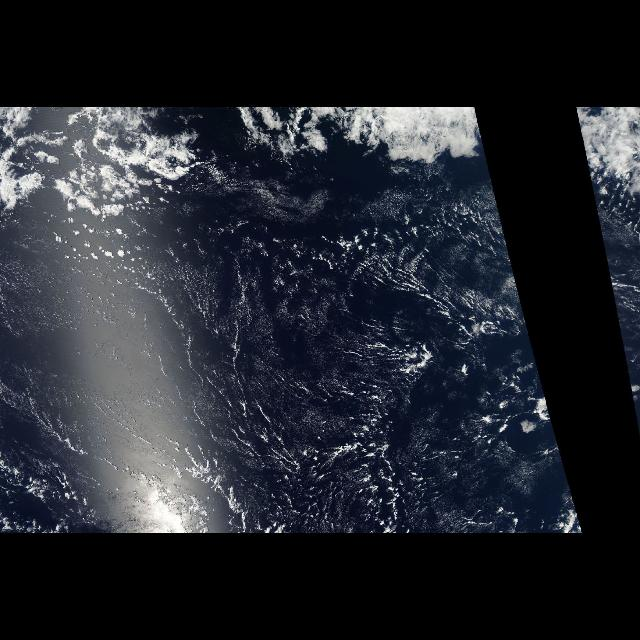Gravel: (1, 130, 212, 222)
Sugar: (12, 235, 498, 532)
